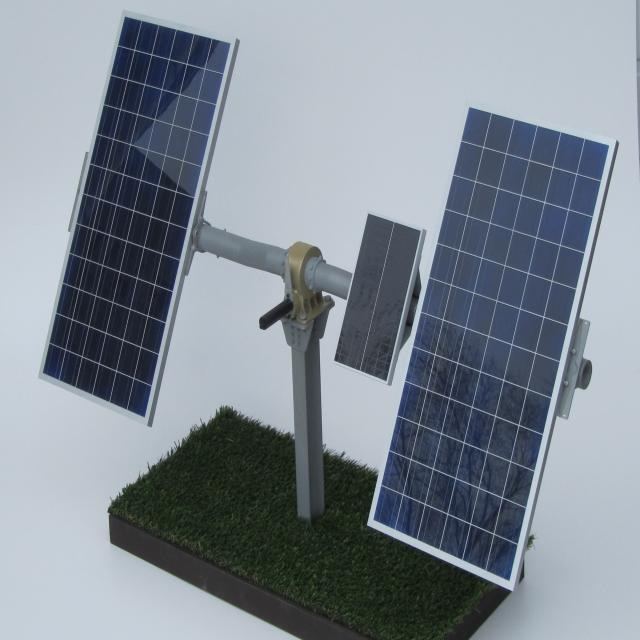faulty: (372, 113, 607, 581), (335, 217, 418, 382)
no faulty: (43, 24, 224, 413)
